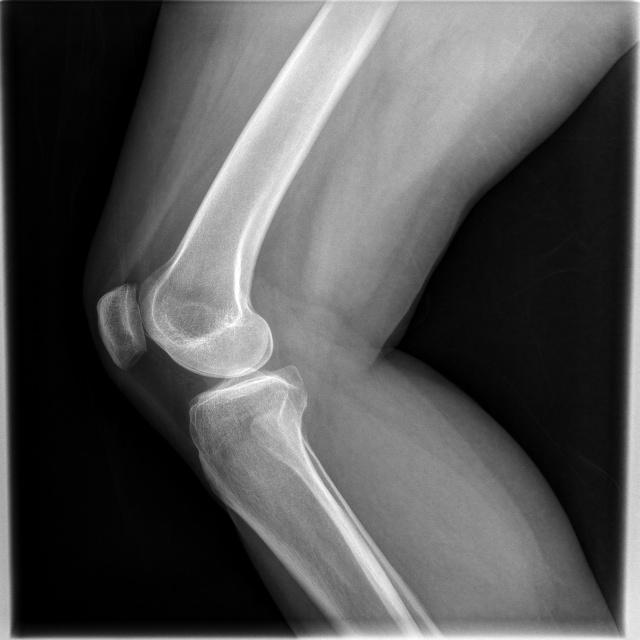Knee: (92, 270, 309, 449)
